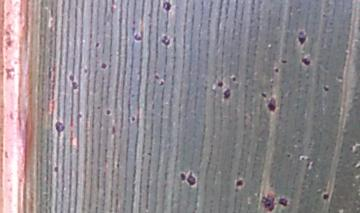tarspot: (129, 20, 145, 44), (260, 192, 278, 213), (179, 171, 199, 189), (151, 70, 167, 90), (296, 27, 308, 49), (159, 32, 173, 49), (267, 96, 280, 113), (220, 86, 232, 102), (279, 192, 289, 209), (233, 177, 246, 190), (54, 119, 66, 132), (300, 55, 312, 67), (320, 82, 331, 94), (161, 1, 173, 12), (109, 124, 118, 136), (99, 61, 109, 71), (93, 40, 103, 50), (128, 114, 139, 123), (216, 79, 224, 90), (273, 66, 281, 76), (231, 74, 238, 85), (67, 73, 75, 82), (322, 192, 330, 200), (72, 82, 80, 90), (285, 152, 293, 160), (53, 165, 60, 173), (261, 92, 268, 99), (105, 109, 111, 117), (83, 67, 89, 75), (76, 113, 84, 119), (280, 59, 288, 64)
